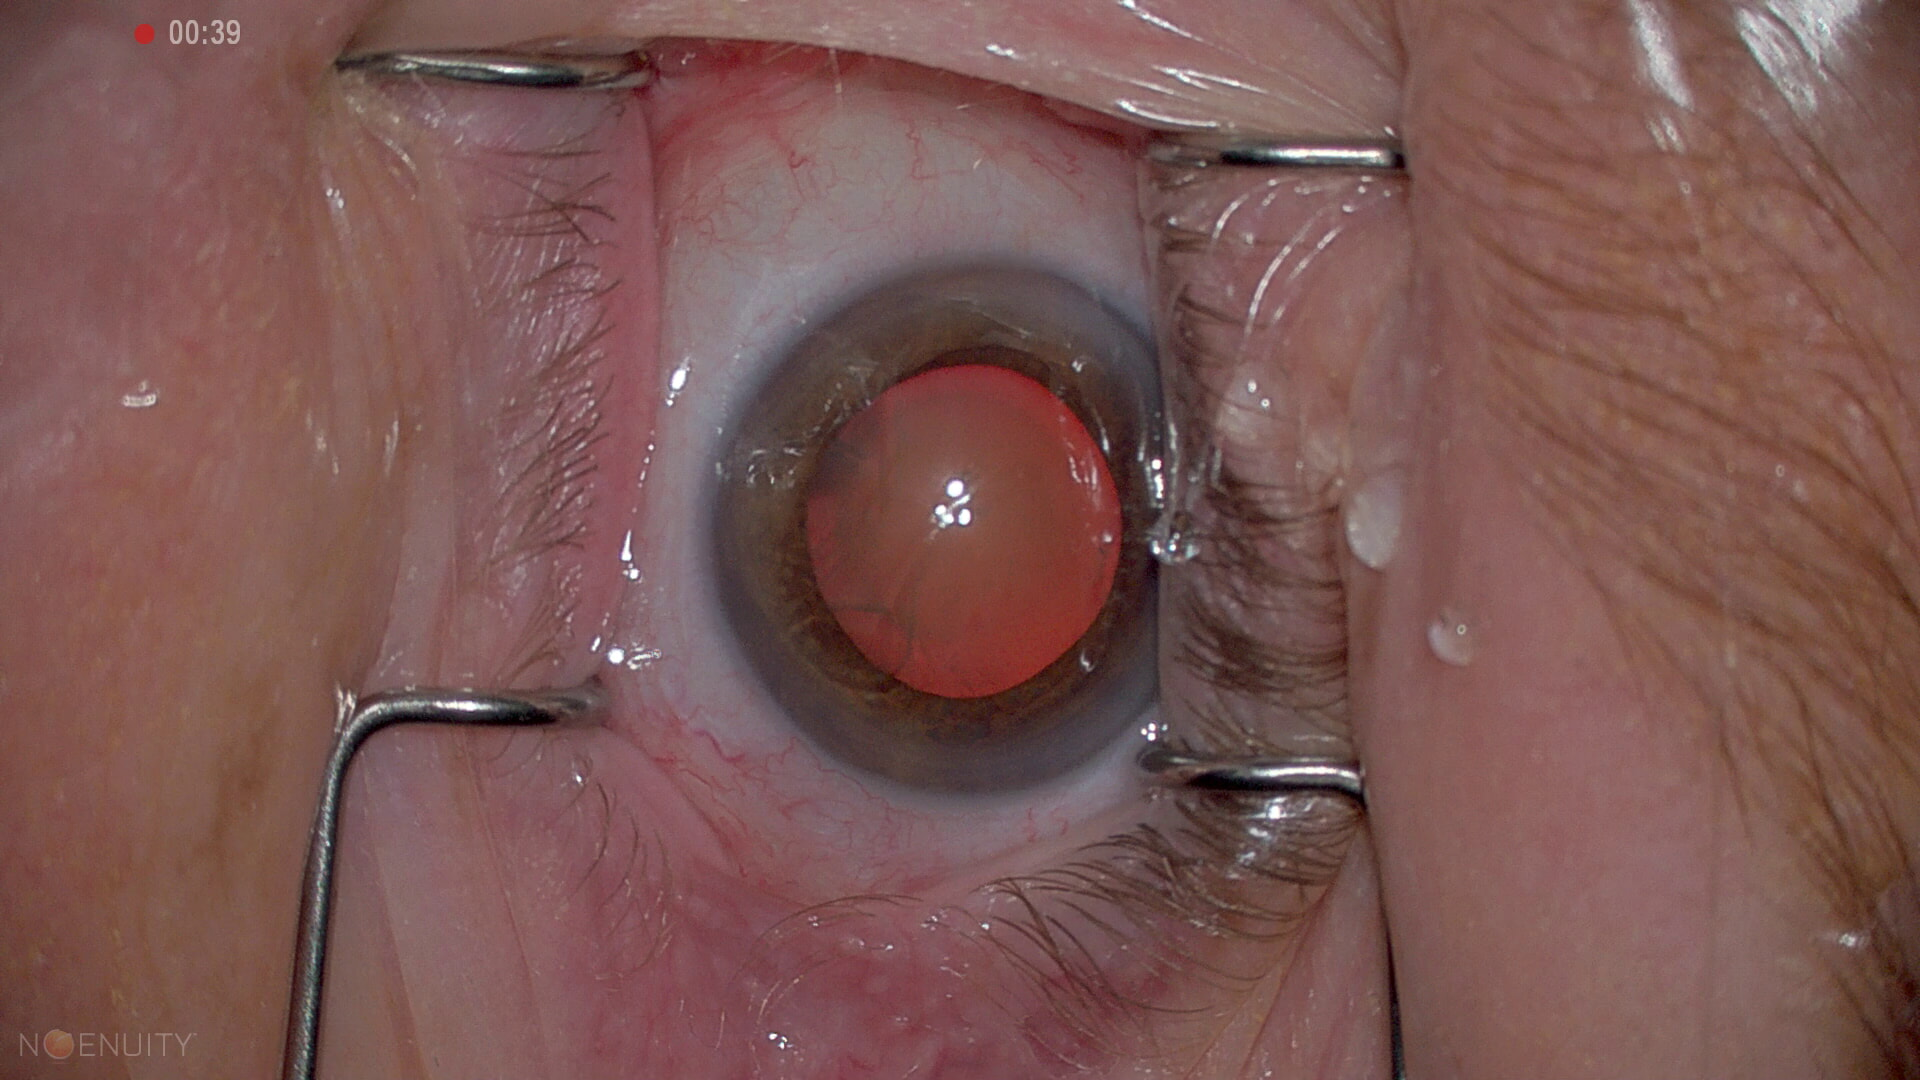iris: (713, 268, 1162, 789)
pupil: (803, 361, 1122, 692)
